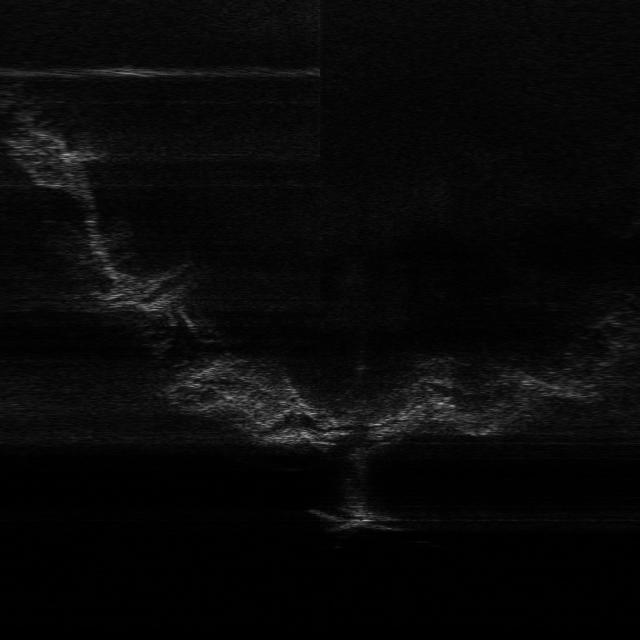plane: (304, 502, 410, 532)
